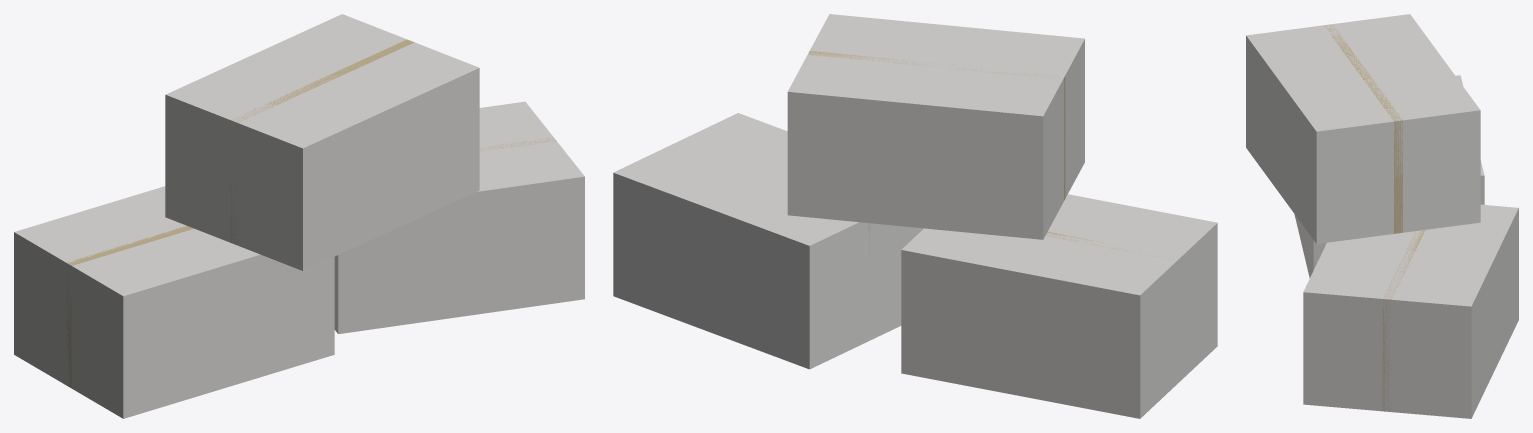
Rendered from prop_shinbun_taba.glb.
The picture shows the model from 3 angles, left to right: view 1: azimuth 30°, elevation 25°; view 2: azimuth 150°, elevation 25°; view 3: azimuth 270°, elevation 25°; orthographic projection. The views are drawn at different scales.
Parts seen in each view (by area): view 1: shinbun_taba; view 2: shinbun_taba; view 3: shinbun_taba.
Part boxes in pixels (x1=…): shinbun_taba: x1=14, y1=14, x2=584, y2=418; shinbun_taba: x1=613, y1=14, x2=1217, y2=418; shinbun_taba: x1=1246, y1=14, x2=1518, y2=418.
Size of the model in its own units: 1.15 by 0.53 by 0.5719.
